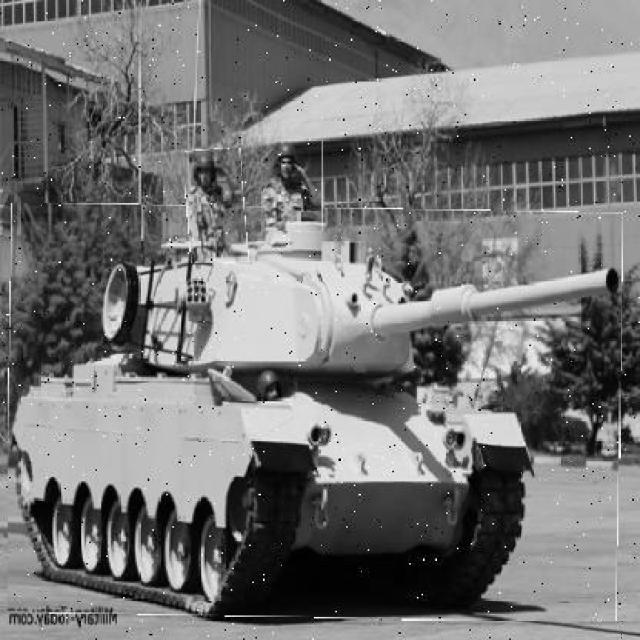Person: (186, 150, 249, 266), (264, 141, 324, 233)
Tank: (9, 206, 623, 621)
